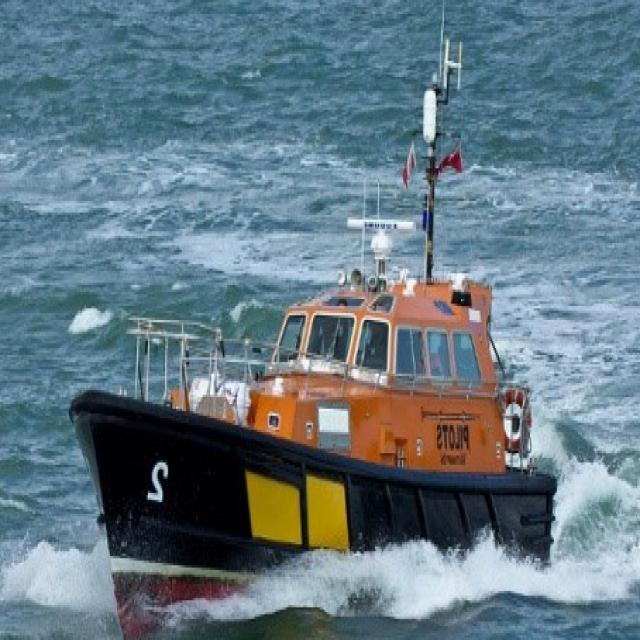houseboat: (74, 31, 573, 636)
